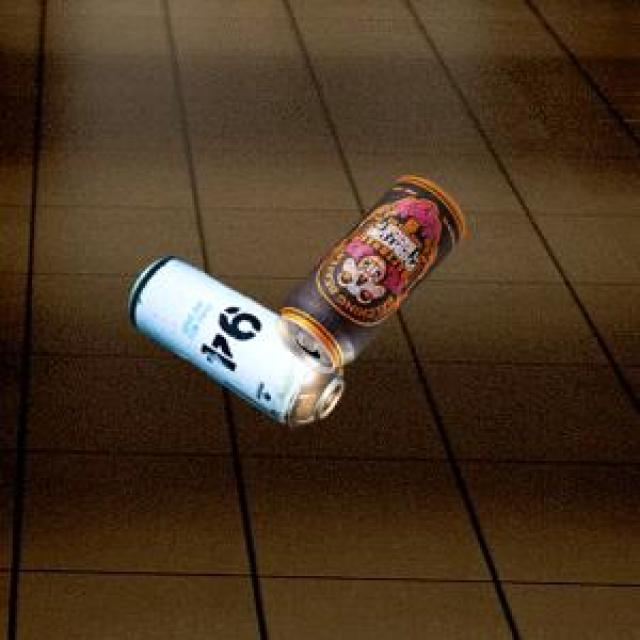logam: (272, 174, 462, 370), (125, 253, 340, 423)
